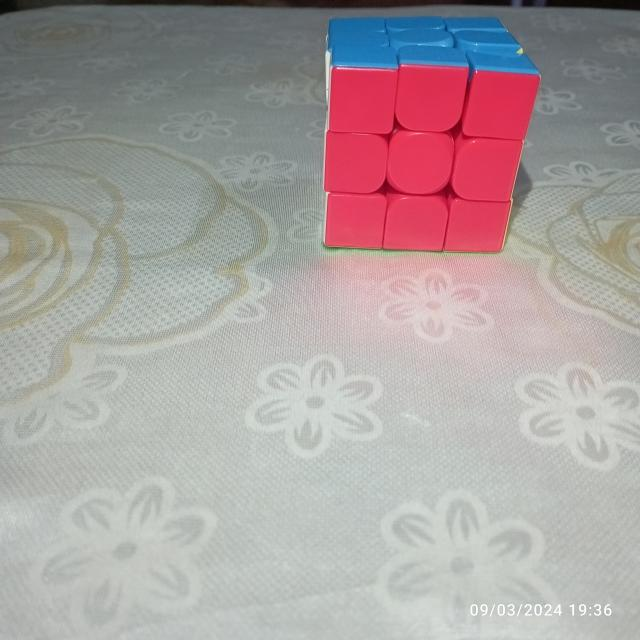Rub: (314, 9, 547, 258)
